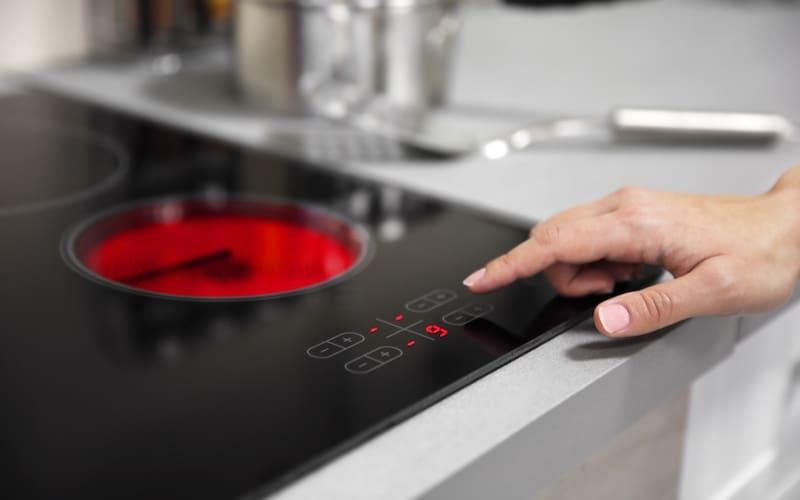controlled_fire: (90, 200, 346, 301)
